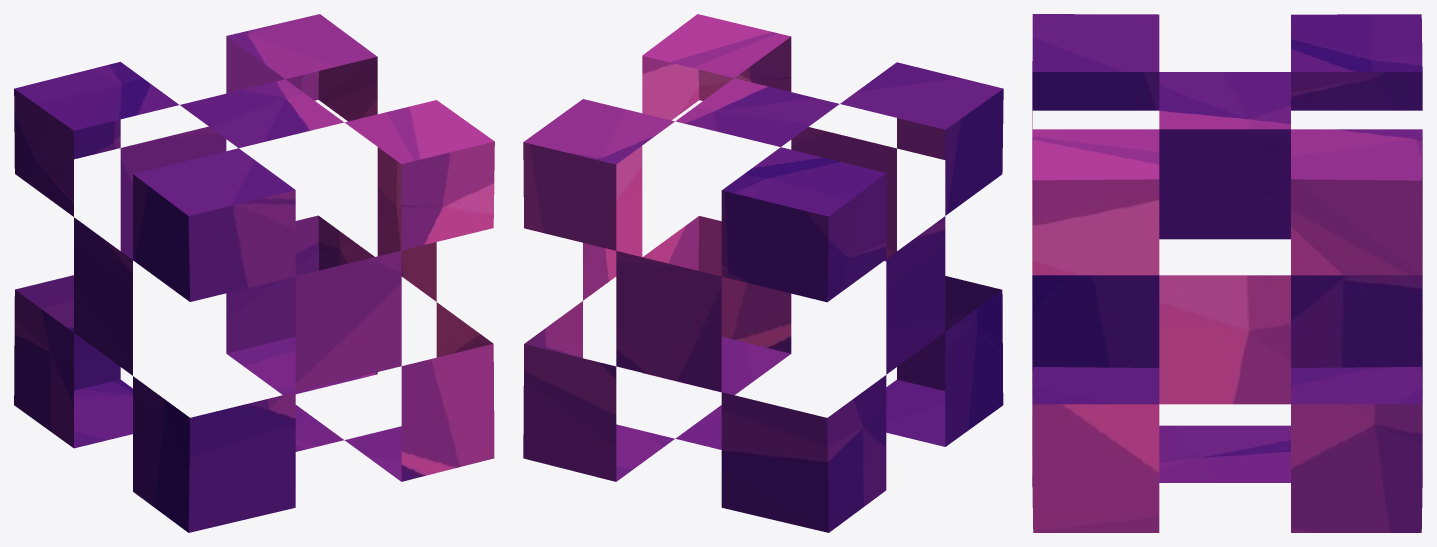
Rendered from Player_15.fbx.
3 renders of one model, left to right at view 1: azimuth 30°, elevation 25°; view 2: azimuth 150°, elevation 25°; view 3: azimuth 270°, elevation 25°, orthographic. The views are drawn at different scales.
Visible parts, largest first — view 1: Cube; view 2: Cube; view 3: Cube.
Part boxes in pixels (box(x1,y1,x2,y2)): Cube: box(14, 14, 494, 532); Cube: box(523, 14, 1003, 532); Cube: box(1032, 14, 1422, 532).
Size of the model in its own units: 202 by 200 by 200.
Materials: 1 (1 with a texture image).
